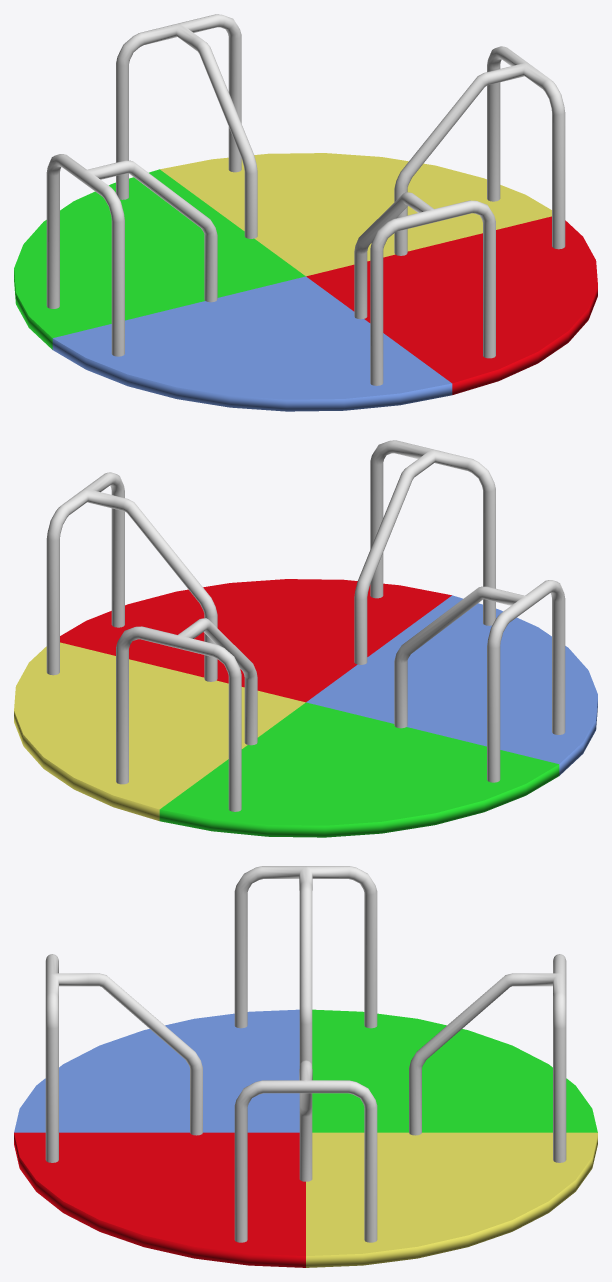
3 renders of one model, top to bottom at view 1: azimuth 30°, elevation 25°; view 2: azimuth 150°, elevation 25°; view 3: azimuth 270°, elevation 25°, orthographic.
Visible parts, largest first — view 1: Spinner; view 2: Spinner; view 3: Spinner.
Boxes of the visible parts, x1,y1,x2,y2 form: Spinner: [14, 14, 597, 411]; Spinner: [14, 440, 597, 837]; Spinner: [14, 866, 597, 1267].
Bounding box in the file's own units: 16.2 × 5.63 × 16.2.
